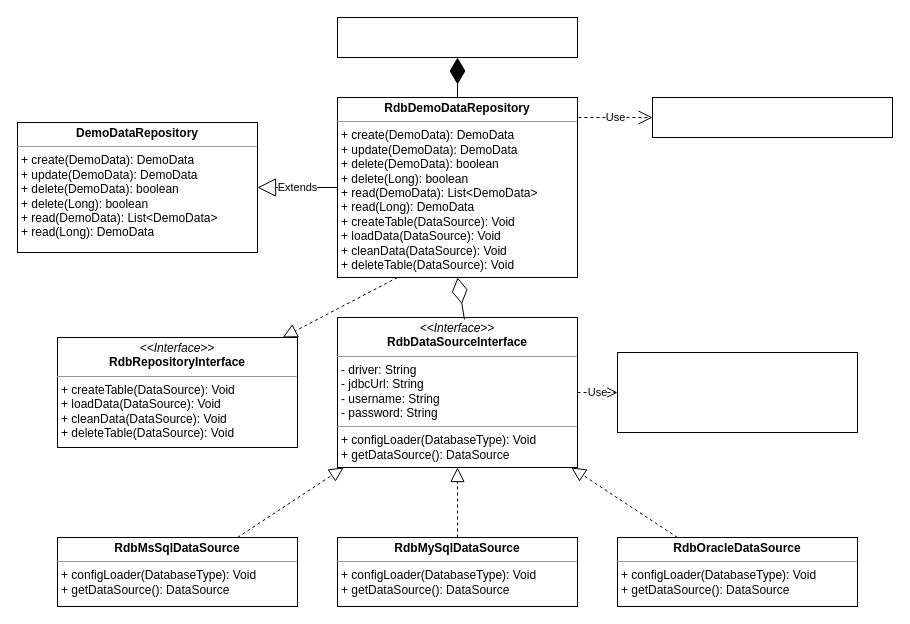
This 910x624 diagram has some shape labels left out. Each missing label, with the centre of its shape:
"DatabaseType MySql MsSql Oracle" belongs at (737,392).
"DemoDataUnitTest" belongs at (457,37).
"RdbUtil" belongs at (772,117).
